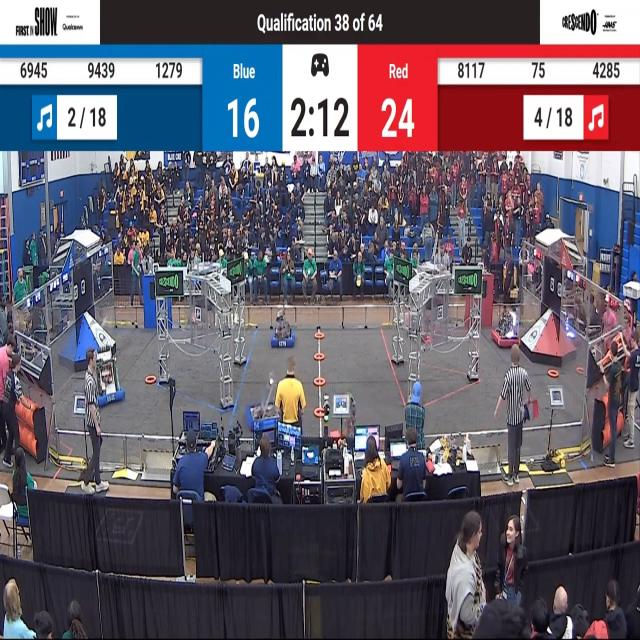Robot: (87, 342, 126, 410), (248, 374, 284, 436), (490, 304, 518, 352), (270, 308, 296, 352)
